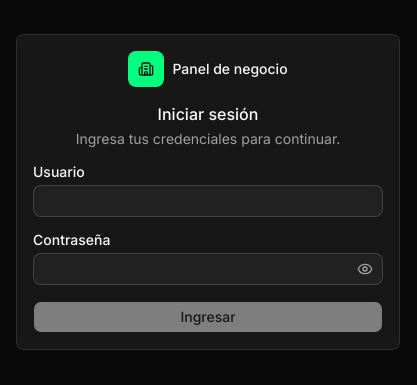
Scenario: LoginForm › shows a generic error message and does not redirect when credentials are wrong
Type "demo@negociodemo.test" into the field labelled "Usuario" at (208, 201), box [33,185,383,217]
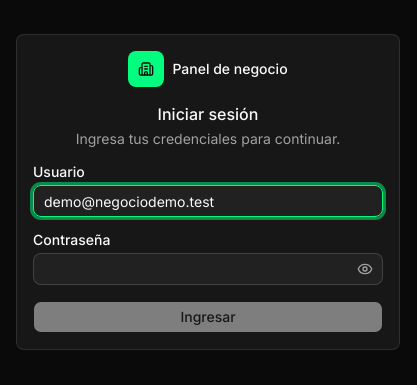
Type "wrong-password" into the password field labelled "Contraseña" at (208, 269), box [33,253,383,285]
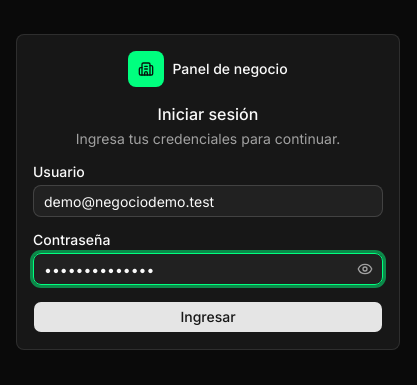
Click the button "Ingresar" at (208, 317), box [33,301,383,333]
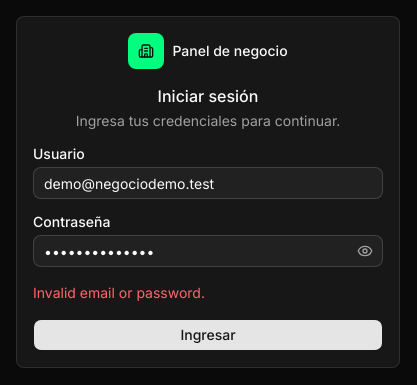
Result: the message shows "Invalid email or password" at [33,284,205,301]
